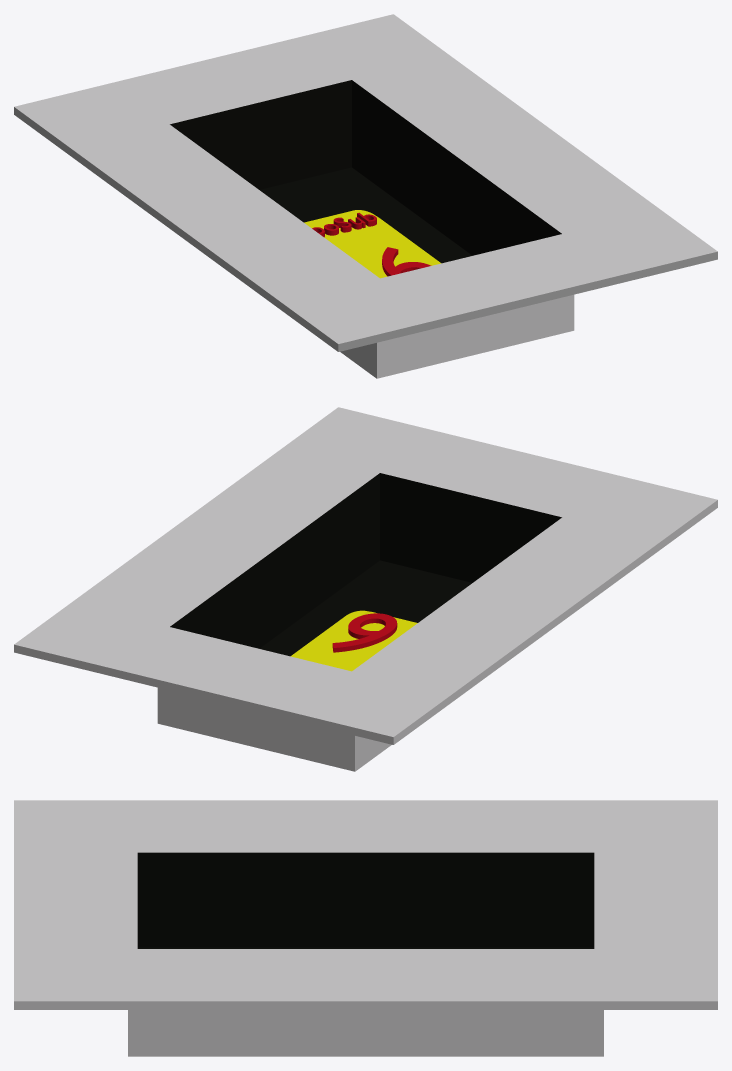
The model's file is BinColor1.dae.
The picture shows the model from 3 angles, top to bottom: view 1: azimuth 30°, elevation 25°; view 2: azimuth 150°, elevation 25°; view 3: azimuth 270°, elevation 25°; orthographic projection. The views are drawn at different scales.
Visible parts, largest first — view 1: BIN_002_001; view 2: BIN_002_001; view 3: BIN_002_001.
Part boxes in pixels (x1,y1,x2,y2): BIN_002_001: (14, 14, 717, 378); BIN_002_001: (14, 407, 717, 771); BIN_002_001: (14, 800, 717, 1056).
Size of the model in its own units: 63.5 by 93.98 by 15.24.
